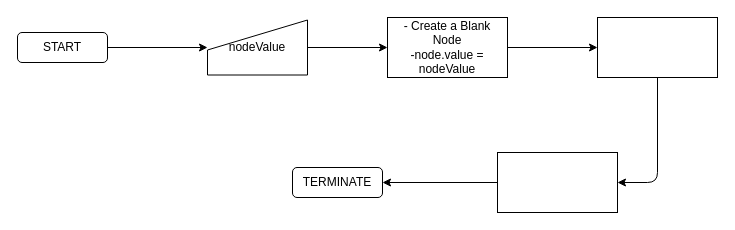
The diagram is 735 pixels wide and 230 high, and some of its shapes have lost their labels. Here are the shapes that lost their labels. From the top down, the centre of each, then its label:
At (657,47): "-head = node -tail = node".
At (557,182): "- node.next = node - node.prev = node".
